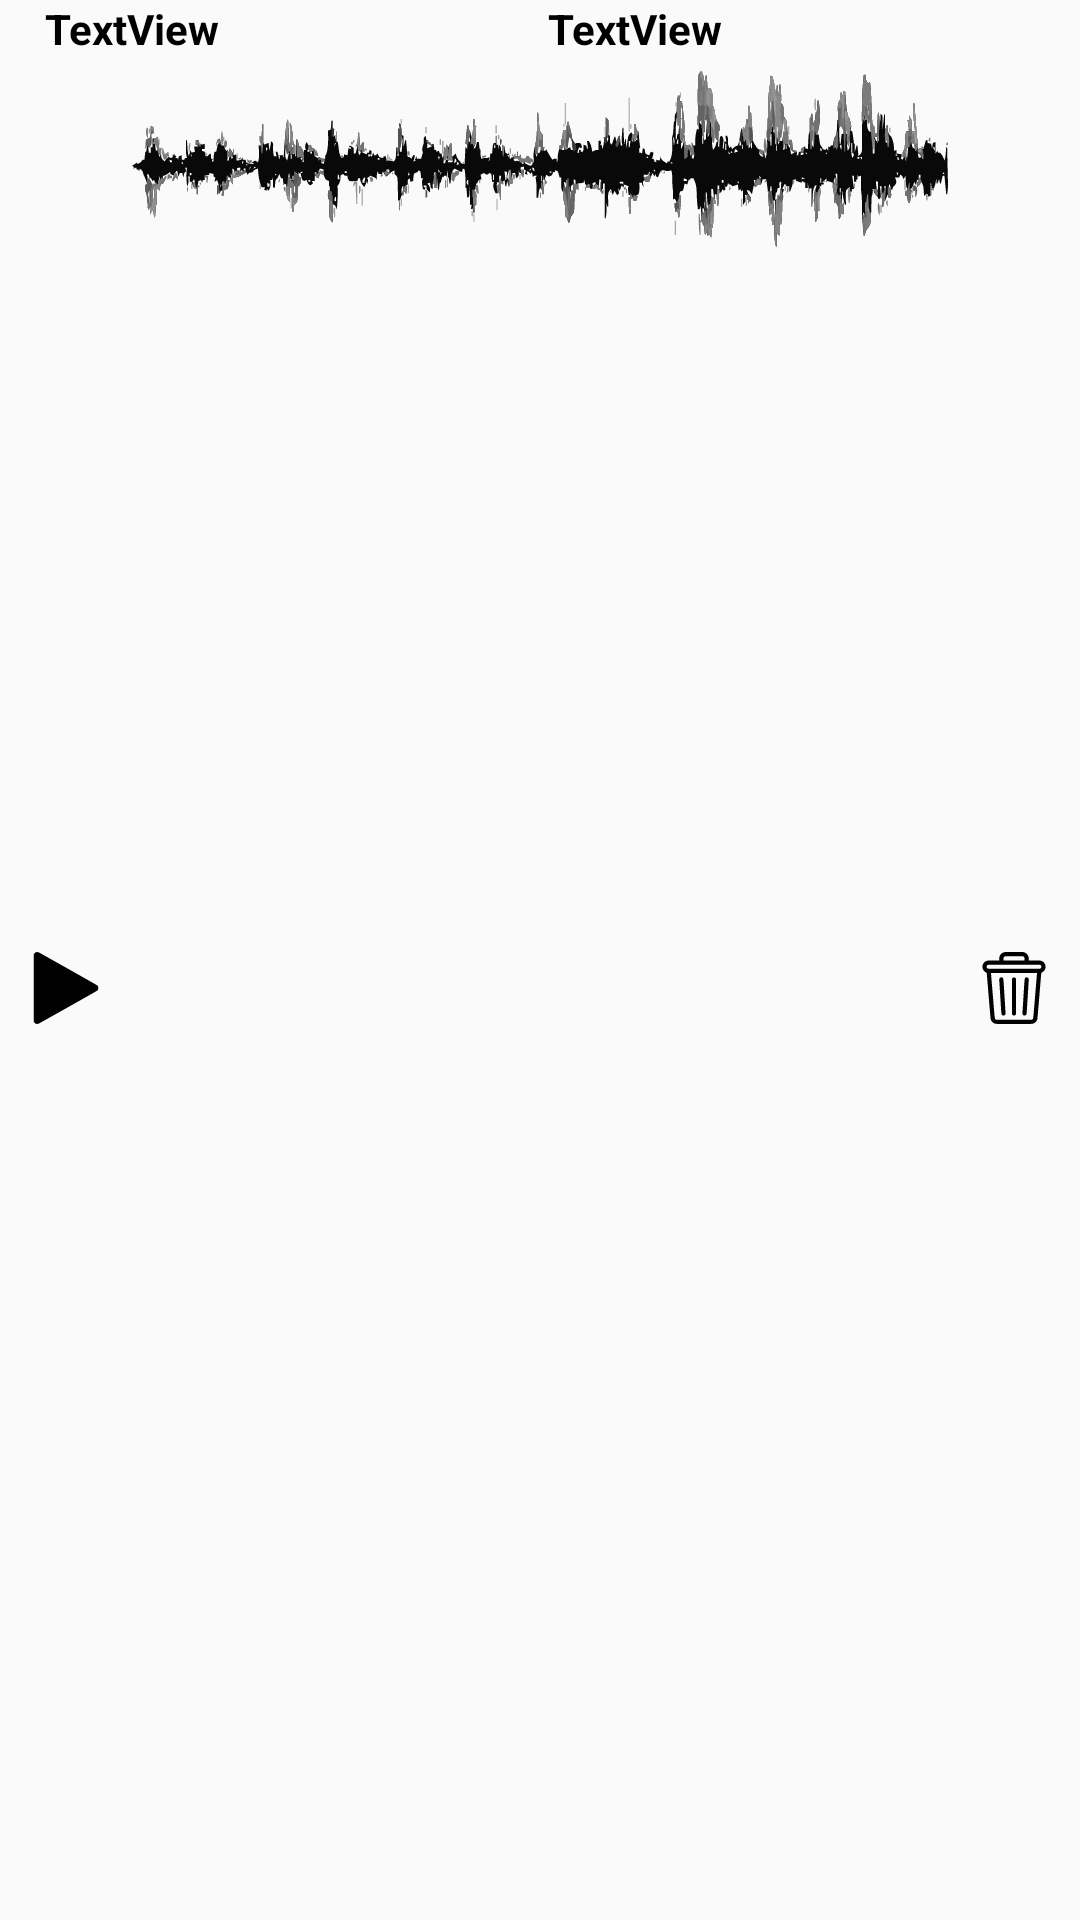

Where icons sit on this 1080px x 1920px app screen, as [left=x1, top=y1, right=x2, bottom=y2]:
bin: [left=982, top=952, right=1046, bottom=1024]
play: [left=33, top=952, right=99, bottom=1024]
